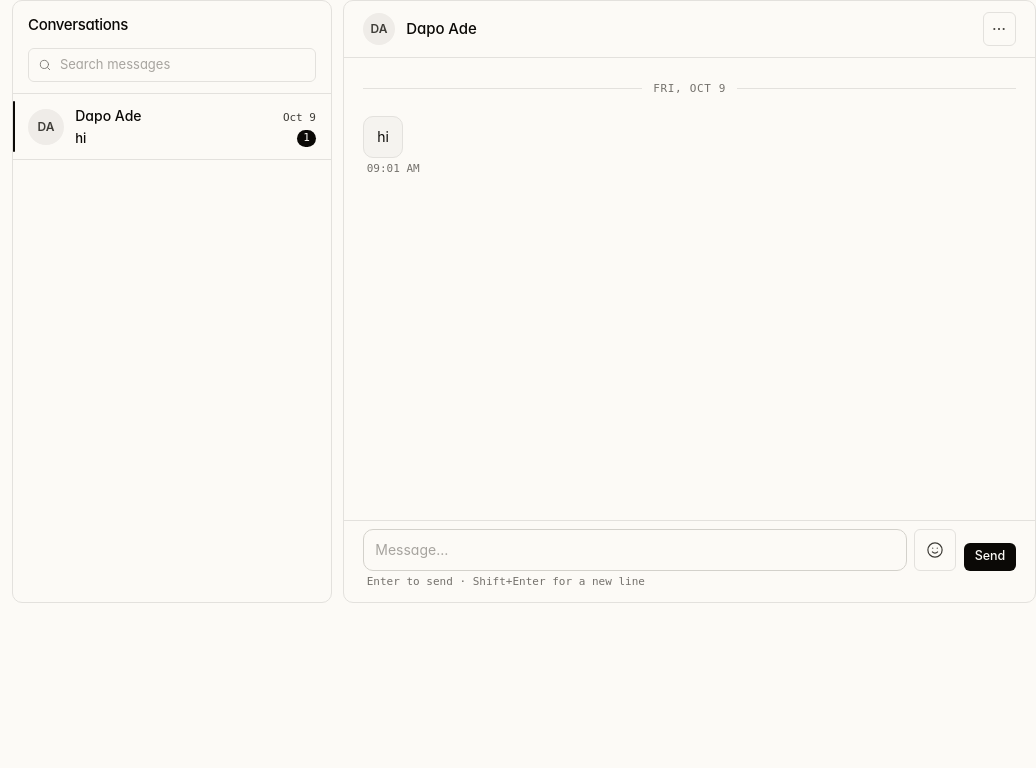
Scenario: past member↔gym-owner conversations (owner ruling, Oct 10) › a send refused with MESSAGING_MOVED_TO_GYM_INBOX turns the thread read-only
Expected: the text "hi" is shown, x1=363 y1=116 x2=403 y2=158
Step 1. Type "late" into the text box named "Message " → (635, 550), box x1=363 y1=528 x2=907 y2=570
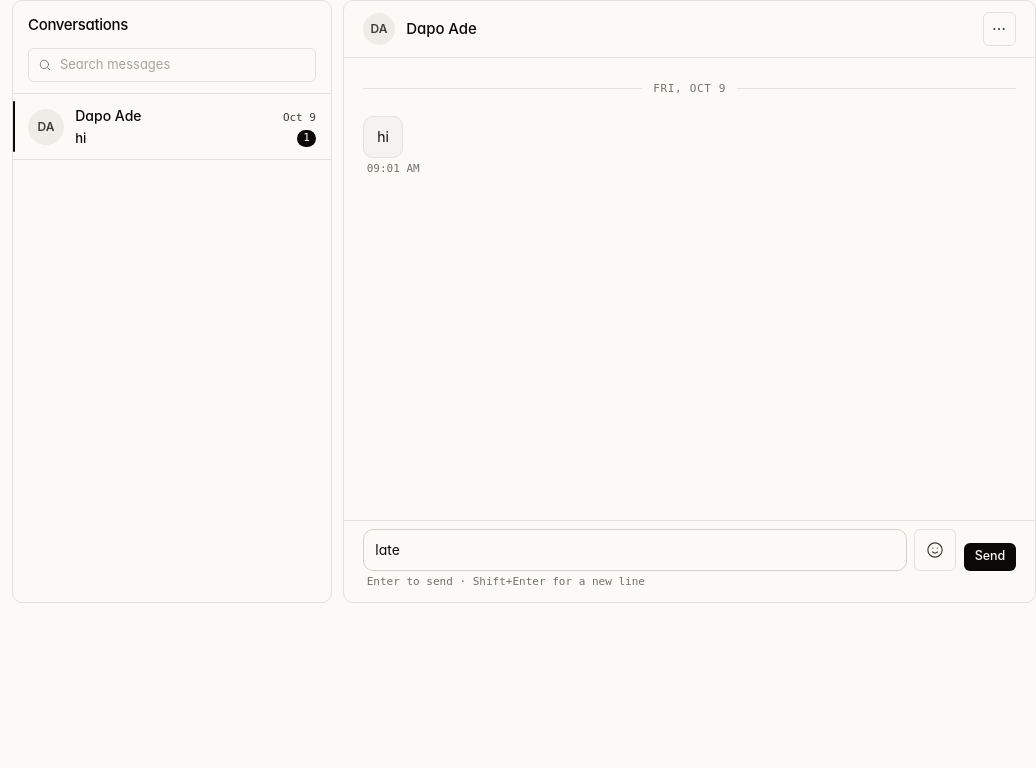
Step 2. Press Enter in the text box named "Message ", box x1=363 y1=528 x2=907 y2=570
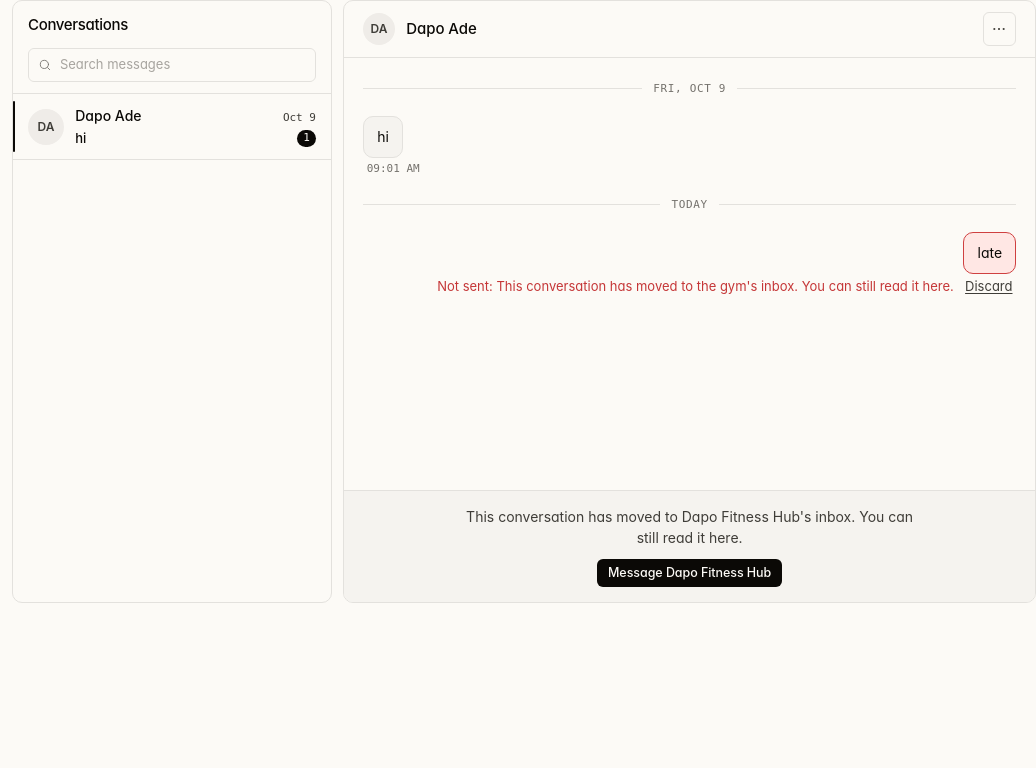
Now the button "Message Dapo Fitness Hub" is shown, box x1=597 y1=559 x2=782 y2=587
